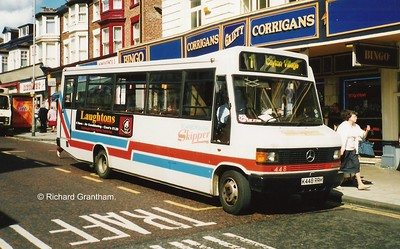bus: (55, 46, 344, 216)
